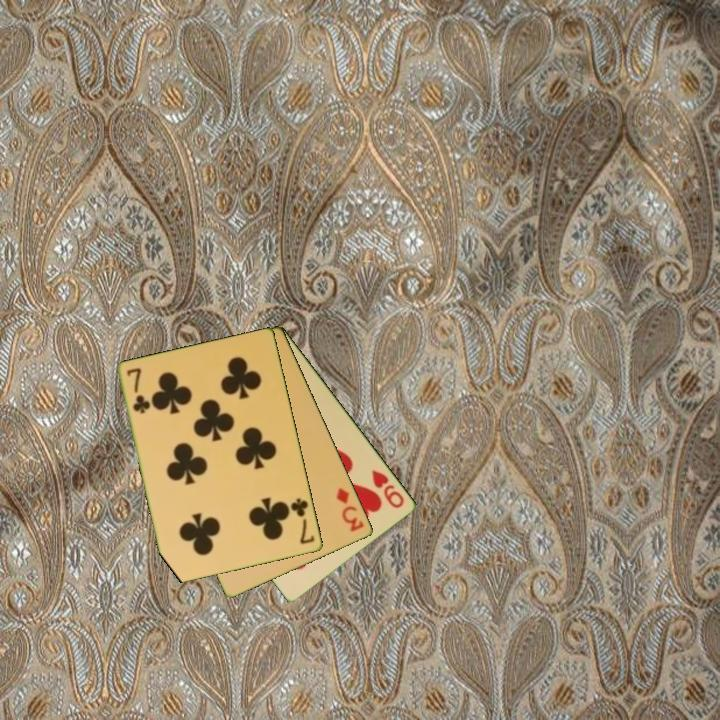3d: (333, 484, 367, 535)
7c: (287, 495, 318, 547), (124, 364, 152, 417)
9h: (368, 466, 408, 511)
